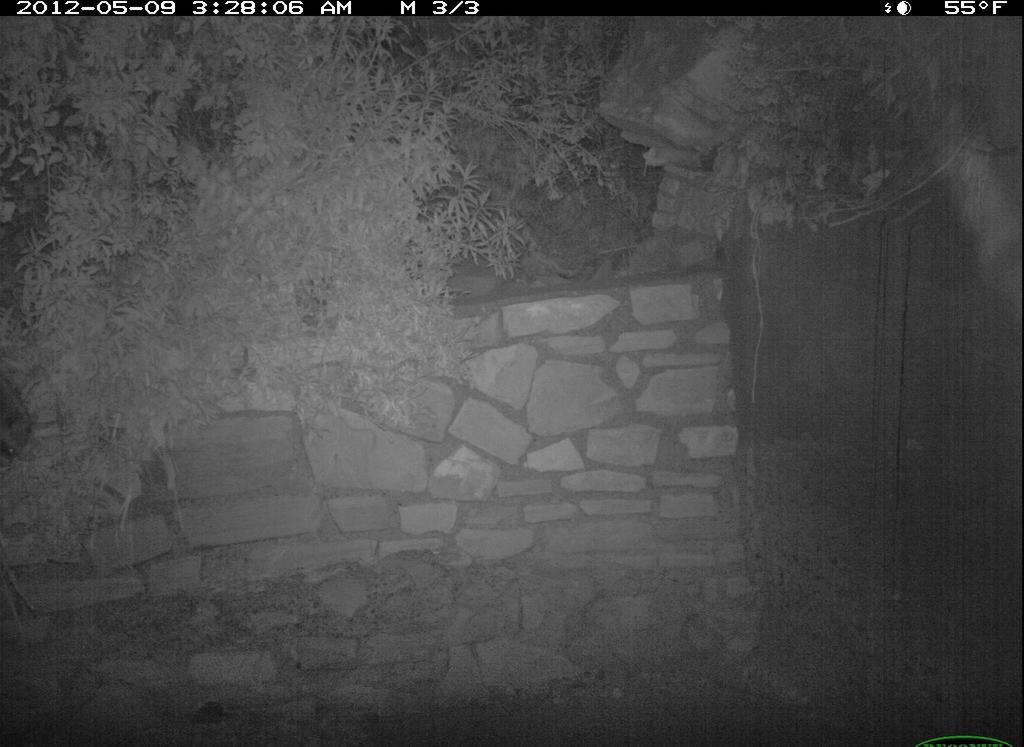raccoon: (1, 360, 43, 465)
